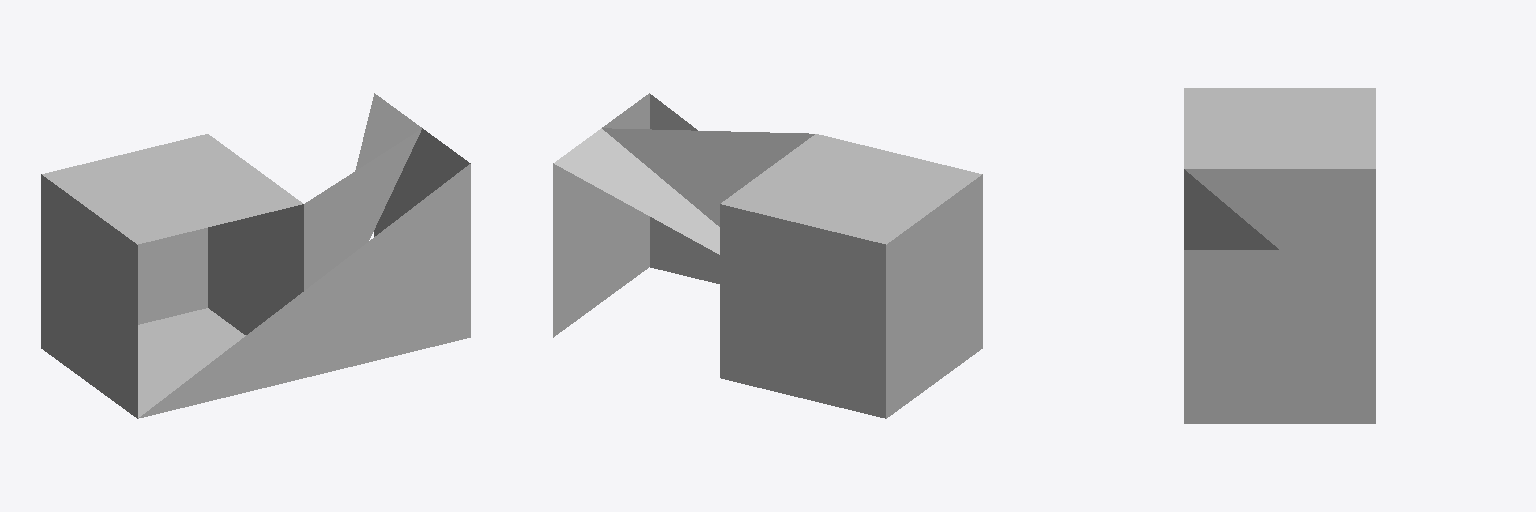
File: banana.obj
3 renders of one model, left to right at view 1: azimuth 30°, elevation 25°; view 2: azimuth 150°, elevation 25°; view 3: azimuth 270°, elevation 25°, orthographic.
Size of the model in its own units: 1 by 0.5 by 0.5.